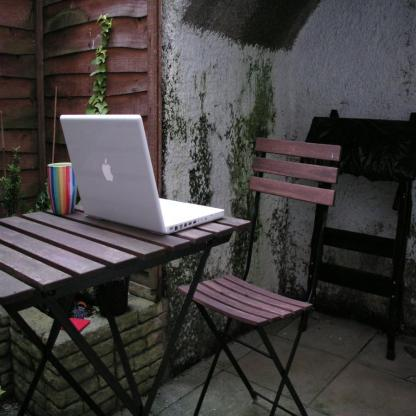board: (59, 112, 225, 234)
